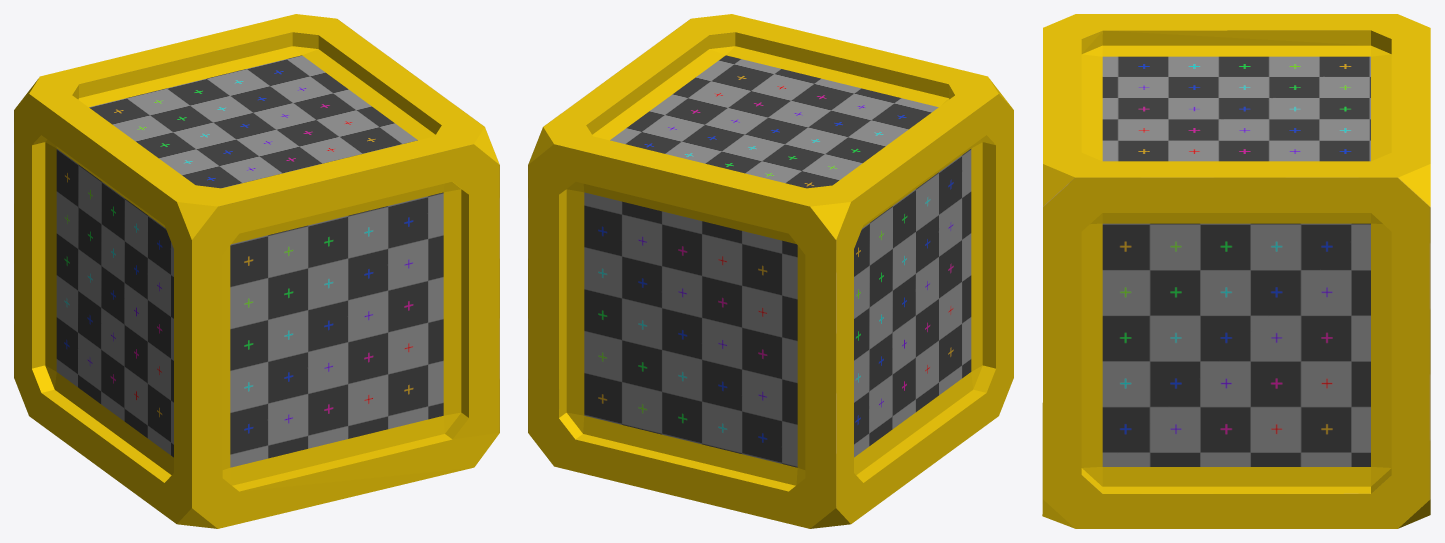
The model's file is Cube_Word_RaidersV.obj.
The picture shows the model from 3 angles, left to right: view 1: azimuth 30°, elevation 25°; view 2: azimuth 150°, elevation 25°; view 3: azimuth 270°, elevation 25°; orthographic projection. The views are drawn at different scales.
Parts seen in each view (by area): view 1: Cube_Cube.001; view 2: Cube_Cube.001; view 3: Cube_Cube.001.
Part boxes in pixels (x1,y1,x2,y2): Cube_Cube.001: [14, 14, 499, 528]; Cube_Cube.001: [528, 14, 1013, 528]; Cube_Cube.001: [1042, 14, 1430, 528].
Bounding box in the file's own units: 2 × 2.01 × 2.
Materials: 1 (1 with a texture image).
